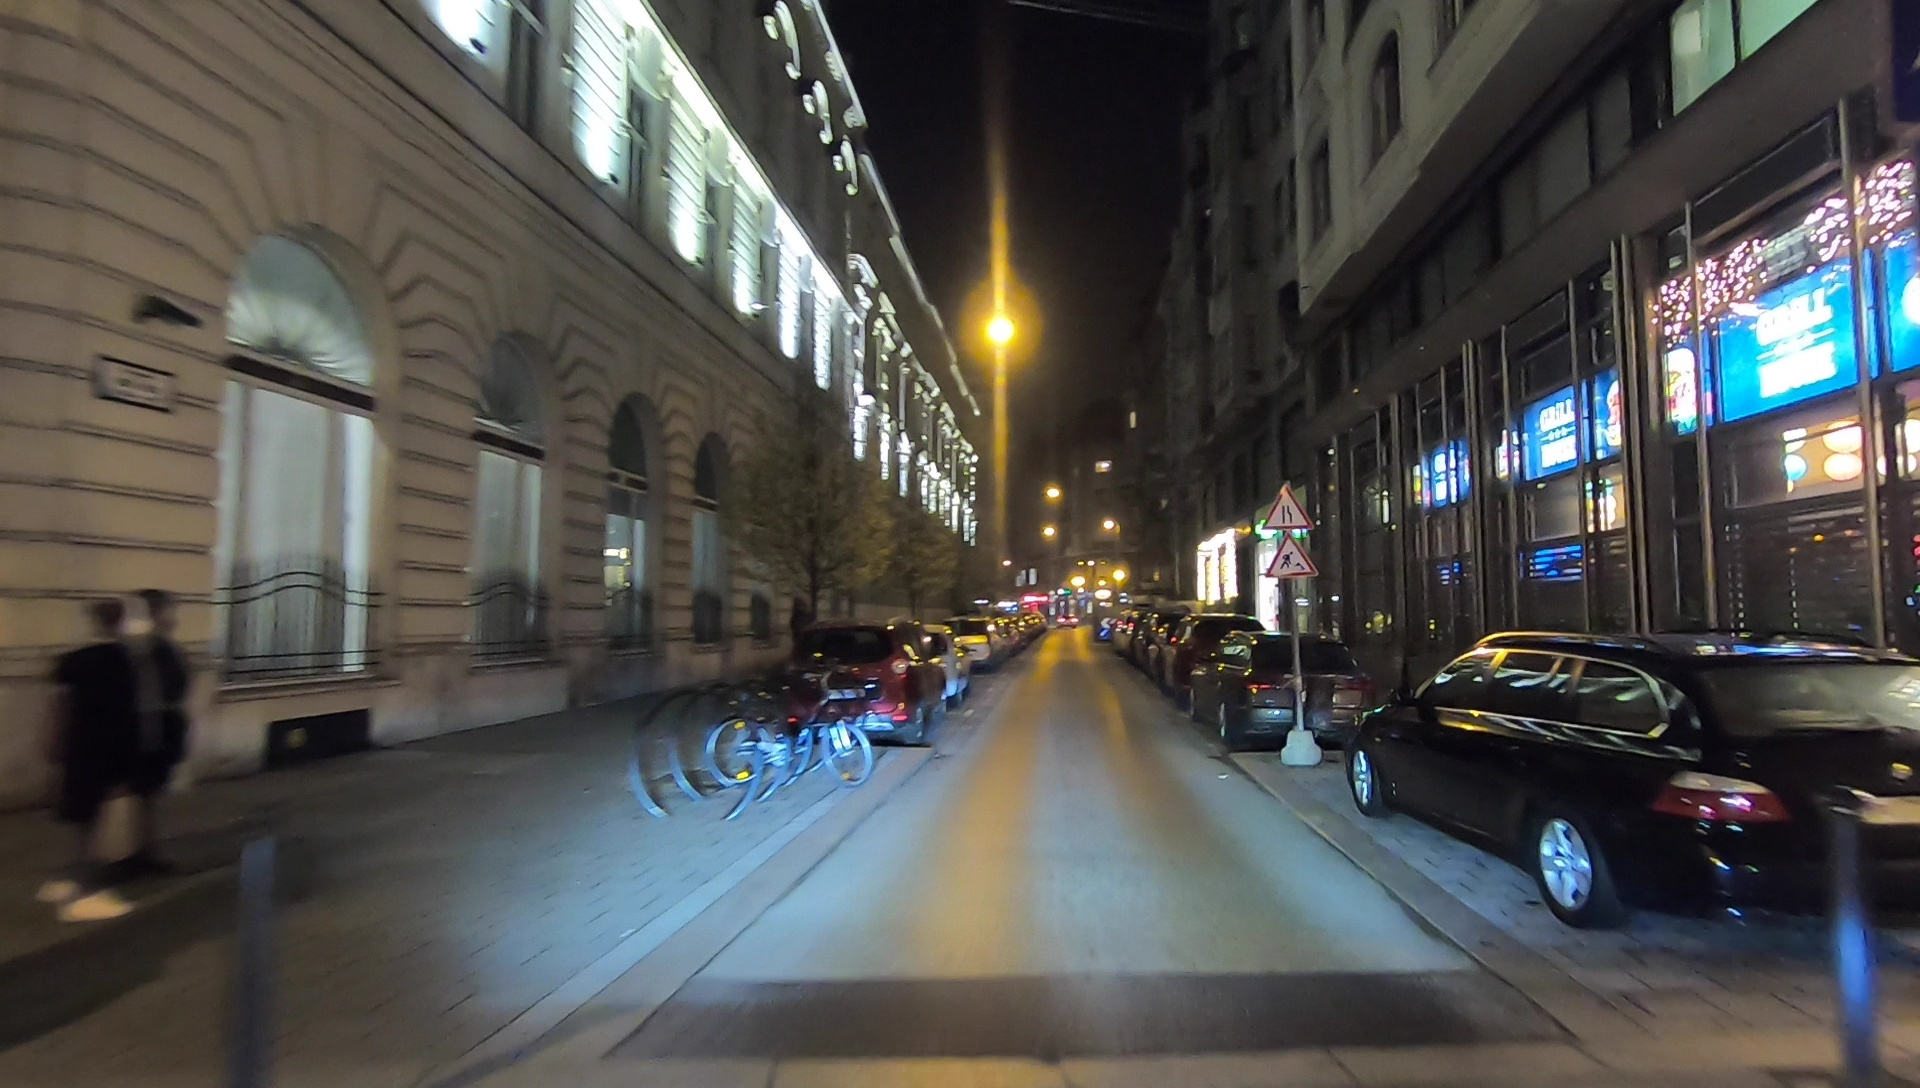person: (123, 584, 197, 893), (54, 599, 121, 924)
